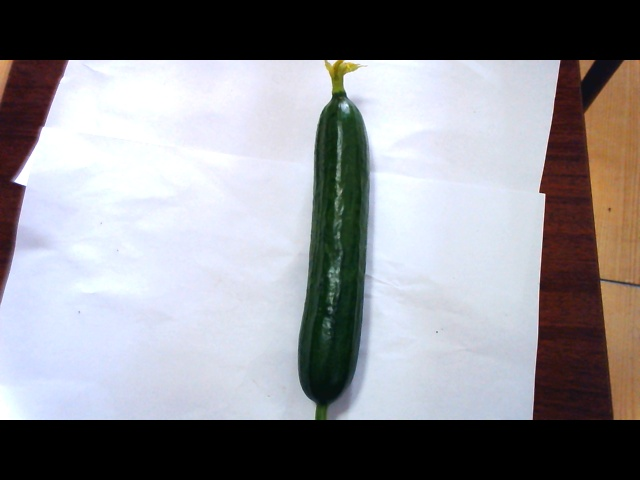cucumber: (290, 67, 381, 410)
